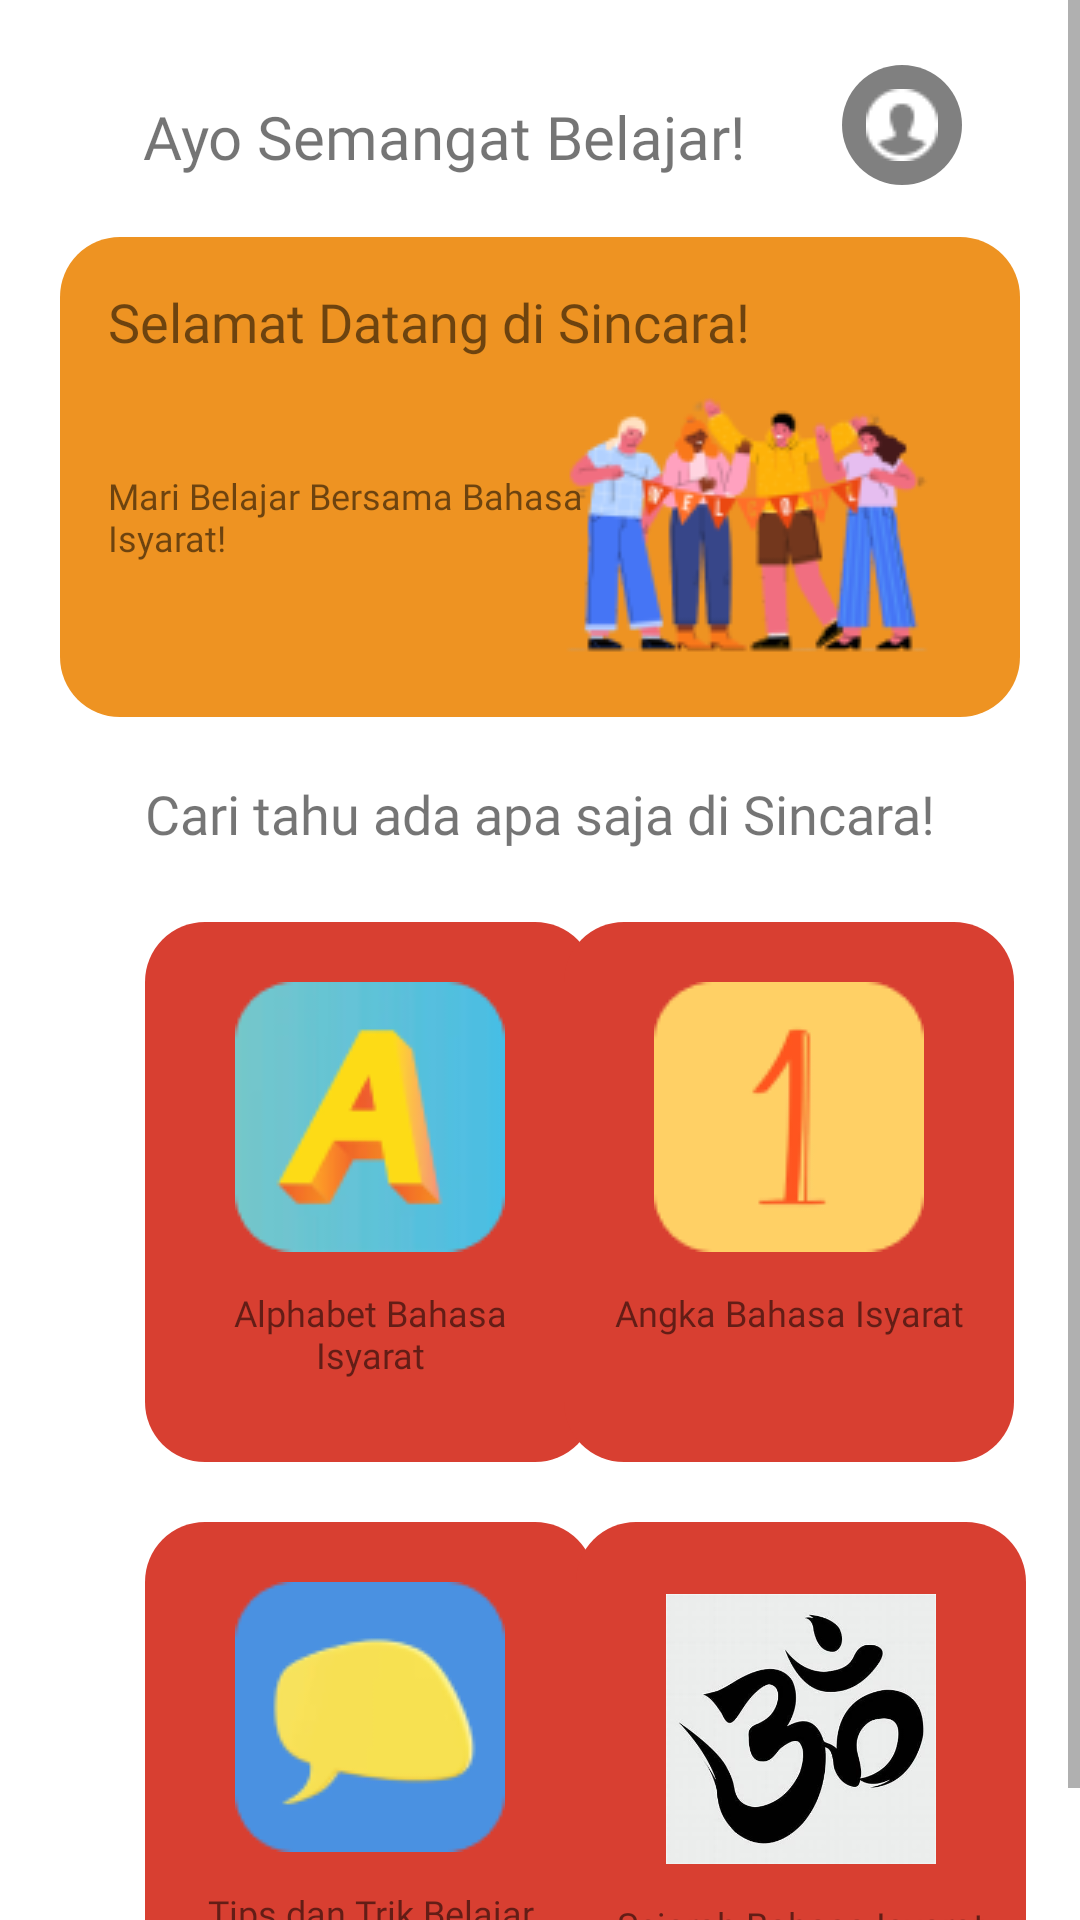

Where icons sit on this 1080w x 1920h app screen, as (x1, y1, x2, y2):
gambar kalimat: (235, 1582, 505, 1852)
user: (842, 65, 962, 185)
